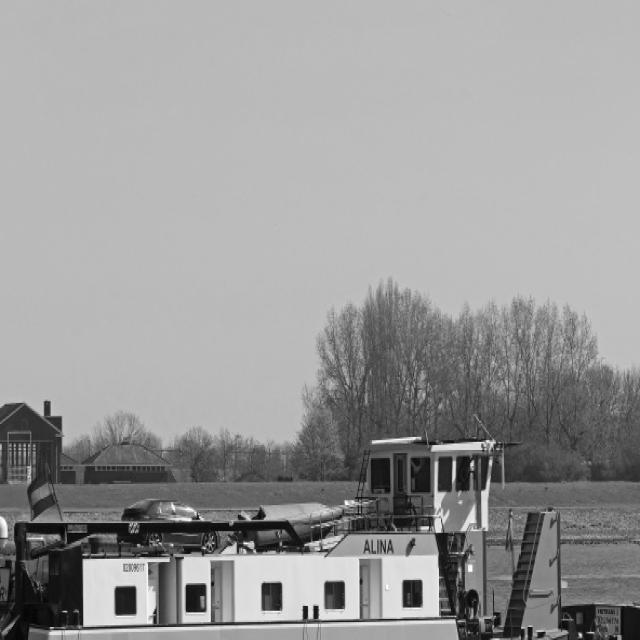tugboat: (1, 426, 577, 640)
